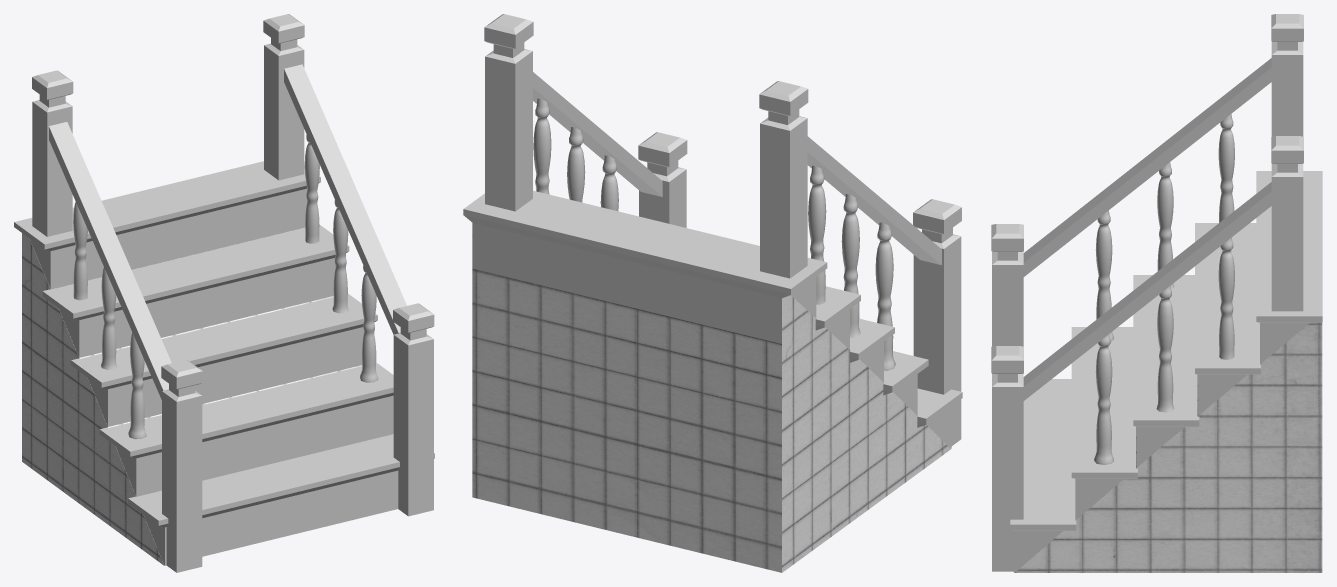
The model's file is den_stairs_full.fbx.
3 views of the same model, side by side, from view 1: azimuth 30°, elevation 25°; view 2: azimuth 150°, elevation 25°; view 3: azimuth 270°, elevation 25° (orthographic). The views are drawn at different scales.
Parts seen in each view (by area): view 1: Cube.018, Cube, Cube.019, Cube.021, Cube.001, Cube.020; view 2: Cube, Cube.018, Cube.001, Cube.019, Cube.020, Cube.021; view 3: Cube, Cube.018, Cube.021, Cube.019, Cube.001, Cube.020.
Boxes of the visible parts, left/top/right/bottom form: Cube.018: left=14, top=161, right=434, bottom=565; Cube: left=22, top=233, right=362, bottom=565; Cube.019: left=161, top=303, right=434, bottom=572; Cube.021: left=49, top=64, right=406, bottom=399; Cube.001: left=32, top=14, right=304, bottom=236; Cube.020: left=73, top=134, right=378, bottom=439; Cube: left=472, top=223, right=950, bottom=572; Cube.018: left=463, top=190, right=962, bottom=448; Cube.001: left=484, top=14, right=808, bottom=278; Cube.019: left=638, top=132, right=961, bottom=445; Cube.020: left=533, top=98, right=895, bottom=370; Cube.021: left=533, top=72, right=941, bottom=265; Cube: left=1014, top=322, right=1322, bottom=572; Cube.018: left=1010, top=171, right=1322, bottom=572; Cube.021: left=1023, top=58, right=1271, bottom=400; Cube.019: left=991, top=224, right=1023, bottom=571; Cube.001: left=1271, top=14, right=1303, bottom=311; Cube.020: left=1094, top=114, right=1234, bottom=464.
Bounding box in the file's own units: 211 × 288 × 203.
